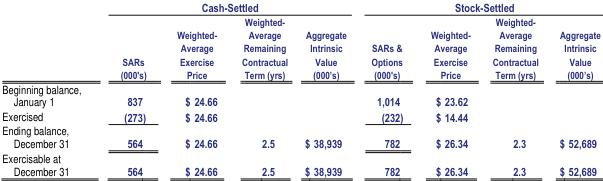table: (1, 0, 599, 178)
table column: (1, 0, 100, 178), (160, 0, 228, 178), (480, 0, 548, 178), (228, 0, 295, 178), (416, 0, 480, 178), (295, 0, 358, 178), (100, 0, 160, 178), (358, 0, 416, 178), (548, 0, 599, 178)
table column header: (1, 0, 599, 80)
table row: (1, 14, 599, 80), (1, 80, 599, 108), (1, 122, 599, 150), (1, 150, 599, 178), (1, 0, 599, 14), (1, 108, 599, 122)
table spanning cell: (100, 0, 358, 14), (358, 0, 599, 14)
